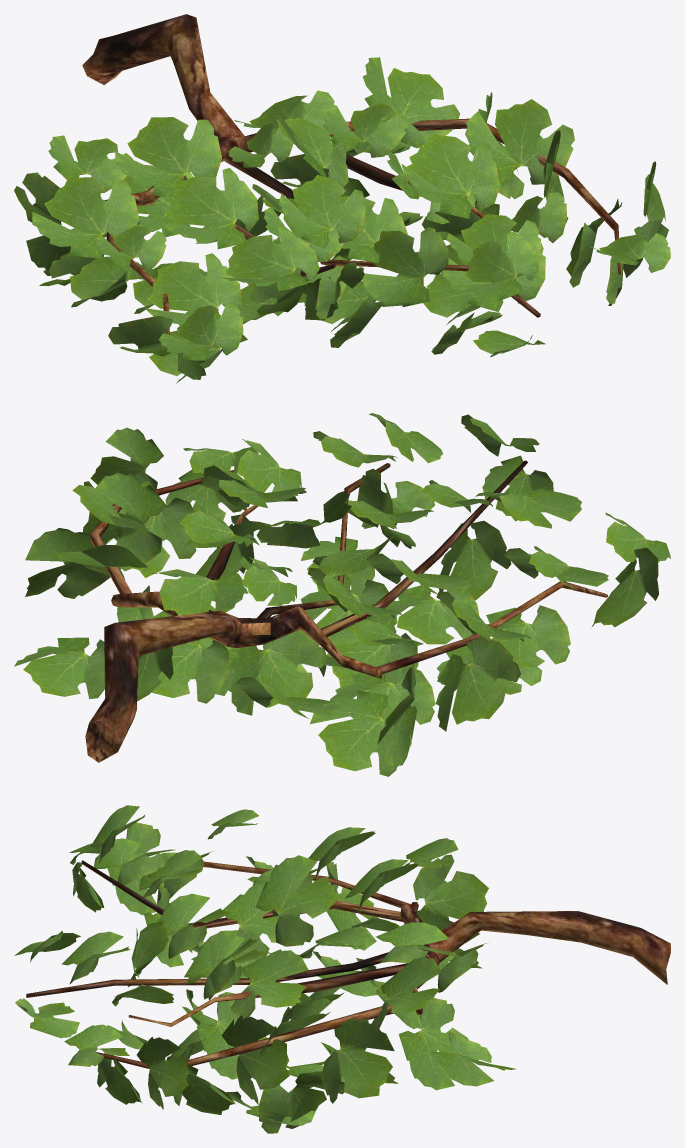
Rendered from vine_02.obj.
3 renders of one model, top to bottom at view 1: azimuth 30°, elevation 25°; view 2: azimuth 150°, elevation 25°; view 3: azimuth 270°, elevation 25°, orthographic. The views are drawn at different scales.
Visible parts, largest first — view 1: trunk.008, leaf.250, leaf.249, leaf.271, leaf.298, branches.005, leaf.277, leaf.268, leaf.299, leaf.266, leaf.273, leaf.274 (+38 smaller); view 2: trunk.008, branches.005, leaf.290, leaf.258, leaf.292, leaf.254, leaf.251, leaf.252, leaf.263, leaf.264, leaf.289, leaf.294 (+41 smaller); view 3: branches.005, trunk.008, leaf.247, leaf.252, leaf.255, leaf.251, leaf.287, leaf.240, leaf.295, leaf.299, leaf.296, leaf.270 (+34 smaller).
Part boxes in pixels (<box>): trunk.008: <box>82,14,354,206</box>; leaf.250: <box>115,117,221,196</box>; leaf.249: <box>32,177,139,258</box>; leaf.271: <box>162,168,258,249</box>; leaf.298: <box>465,99,574,186</box>; branches.005: <box>106,118,620,335</box>; leaf.277: <box>362,227,448,306</box>; leaf.268: <box>401,134,499,218</box>; leaf.299: <box>362,57,459,148</box>; leaf.266: <box>279,174,365,248</box>; leaf.273: <box>144,253,241,326</box>; leaf.274: <box>222,226,319,291</box>; trunk.008: <box>85,591,381,762</box>; branches.005: <box>90,460,607,676</box>; leaf.290: <box>435,636,520,731</box>; leaf.258: <box>227,629,327,715</box>; leaf.292: <box>310,690,411,776</box>; leaf.254: <box>14,637,104,699</box>; leaf.251: <box>82,472,166,571</box>; leaf.252: <box>25,528,110,598</box>; leaf.263: <box>375,585,479,644</box>; leaf.264: <box>465,605,570,667</box>; leaf.289: <box>438,520,511,600</box>; leaf.294: <box>151,639,229,703</box>; branches.005: <box>26,860,423,1068</box>; trunk.008: <box>400,902,670,1014</box>; leaf.247: <box>255,855,338,946</box>; leaf.252: <box>321,1017,394,1103</box>; leaf.255: <box>413,854,488,943</box>; leaf.251: <box>221,1015,289,1104</box>; leaf.287: <box>398,998,468,1090</box>; leaf.240: <box>230,949,308,1018</box>; leaf.295: <box>258,1071,344,1133</box>; leaf.299: <box>371,956,441,1028</box>; leaf.296: <box>136,1036,188,1109</box>; leaf.270: <box>158,893,231,958</box>.
Size of the model in its own units: 1.42 by 0.5745 by 1.62.
Materials: 2 (2 with a texture image).
